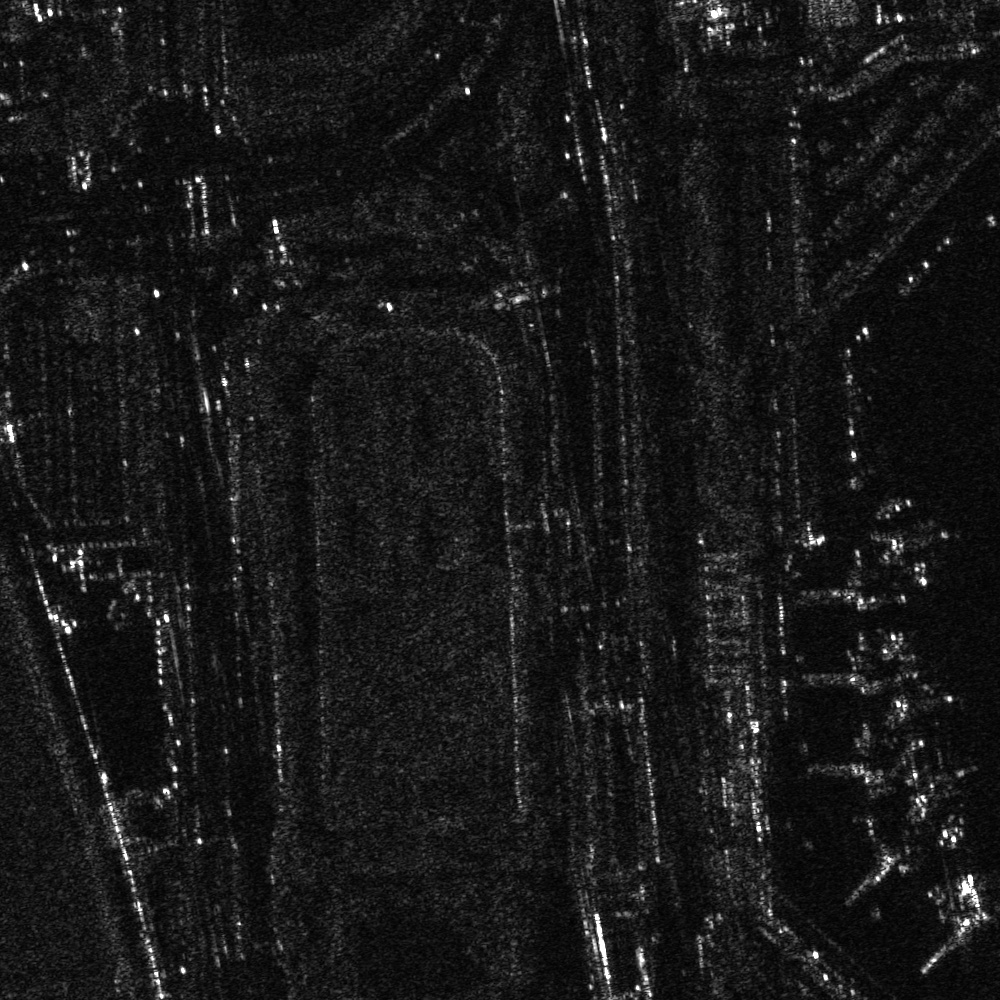A220: (841, 491, 961, 599), (857, 661, 964, 741)
